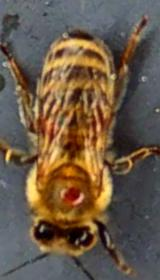varroa_mite: (54, 180, 89, 207)
